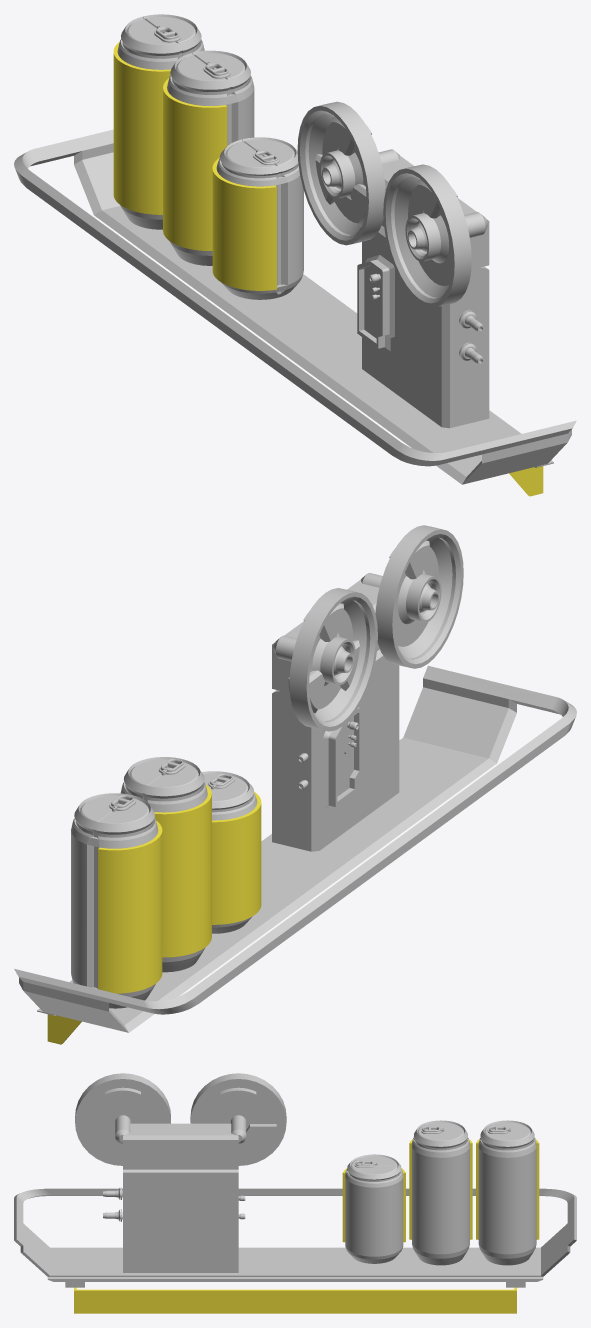
The model's file is RecordMachine.glb.
The picture shows the model from 3 angles, top to bottom: view 1: azimuth 30°, elevation 25°; view 2: azimuth 150°, elevation 25°; view 3: azimuth 270°, elevation 25°; orthographic projection. The views are drawn at different scales.
Visible parts, largest first — view 1: Body91, Body100, Body106, Body104, Body107, Body103, Body101, Body89, Body108; view 2: Body100, Body91, Body104, Body89, Body106, Body107, Body101, Body103, Body108; view 3: Body91, Body100, Body108, Body89, Body101, Body103, Body104, Body105, Body98, Body92, Body106, Body107.
Boxes of the visible parts, x1,y1,x2,y2 form: Body91: (297, 101, 489, 428); Body100: (14, 129, 576, 484); Body106: (163, 78, 227, 250); Body104: (113, 42, 170, 214); Body107: (212, 158, 276, 290); Body103: (216, 137, 303, 299); Body101: (167, 50, 254, 265); Body89: (117, 14, 204, 229); Body108: (509, 466, 543, 496); Body100: (14, 665, 576, 1032); Body91: (272, 525, 463, 851); Body104: (98, 820, 162, 993); Body89: (71, 793, 158, 1008); Body106: (154, 784, 211, 957); Body107: (212, 791, 261, 924); Body101: (120, 757, 207, 972); Body103: (201, 771, 257, 933); Body108: (47, 1014, 81, 1044); Body91: (75, 1073, 286, 1272); Body100: (14, 1188, 576, 1287); Body108: (74, 1287, 516, 1313); Body89: (478, 1120, 536, 1265); Body101: (412, 1120, 469, 1265); Body103: (345, 1154, 403, 1263); Body104: (476, 1139, 539, 1239); Body105: (220, 1087, 256, 1115); Body98: (105, 1087, 140, 1115); Body92: (246, 1124, 276, 1154); Body106: (409, 1139, 472, 1239); Body107: (342, 1168, 405, 1242).
Bounding box in the file's own units: 9.89 × 17.52 × 42.25.
